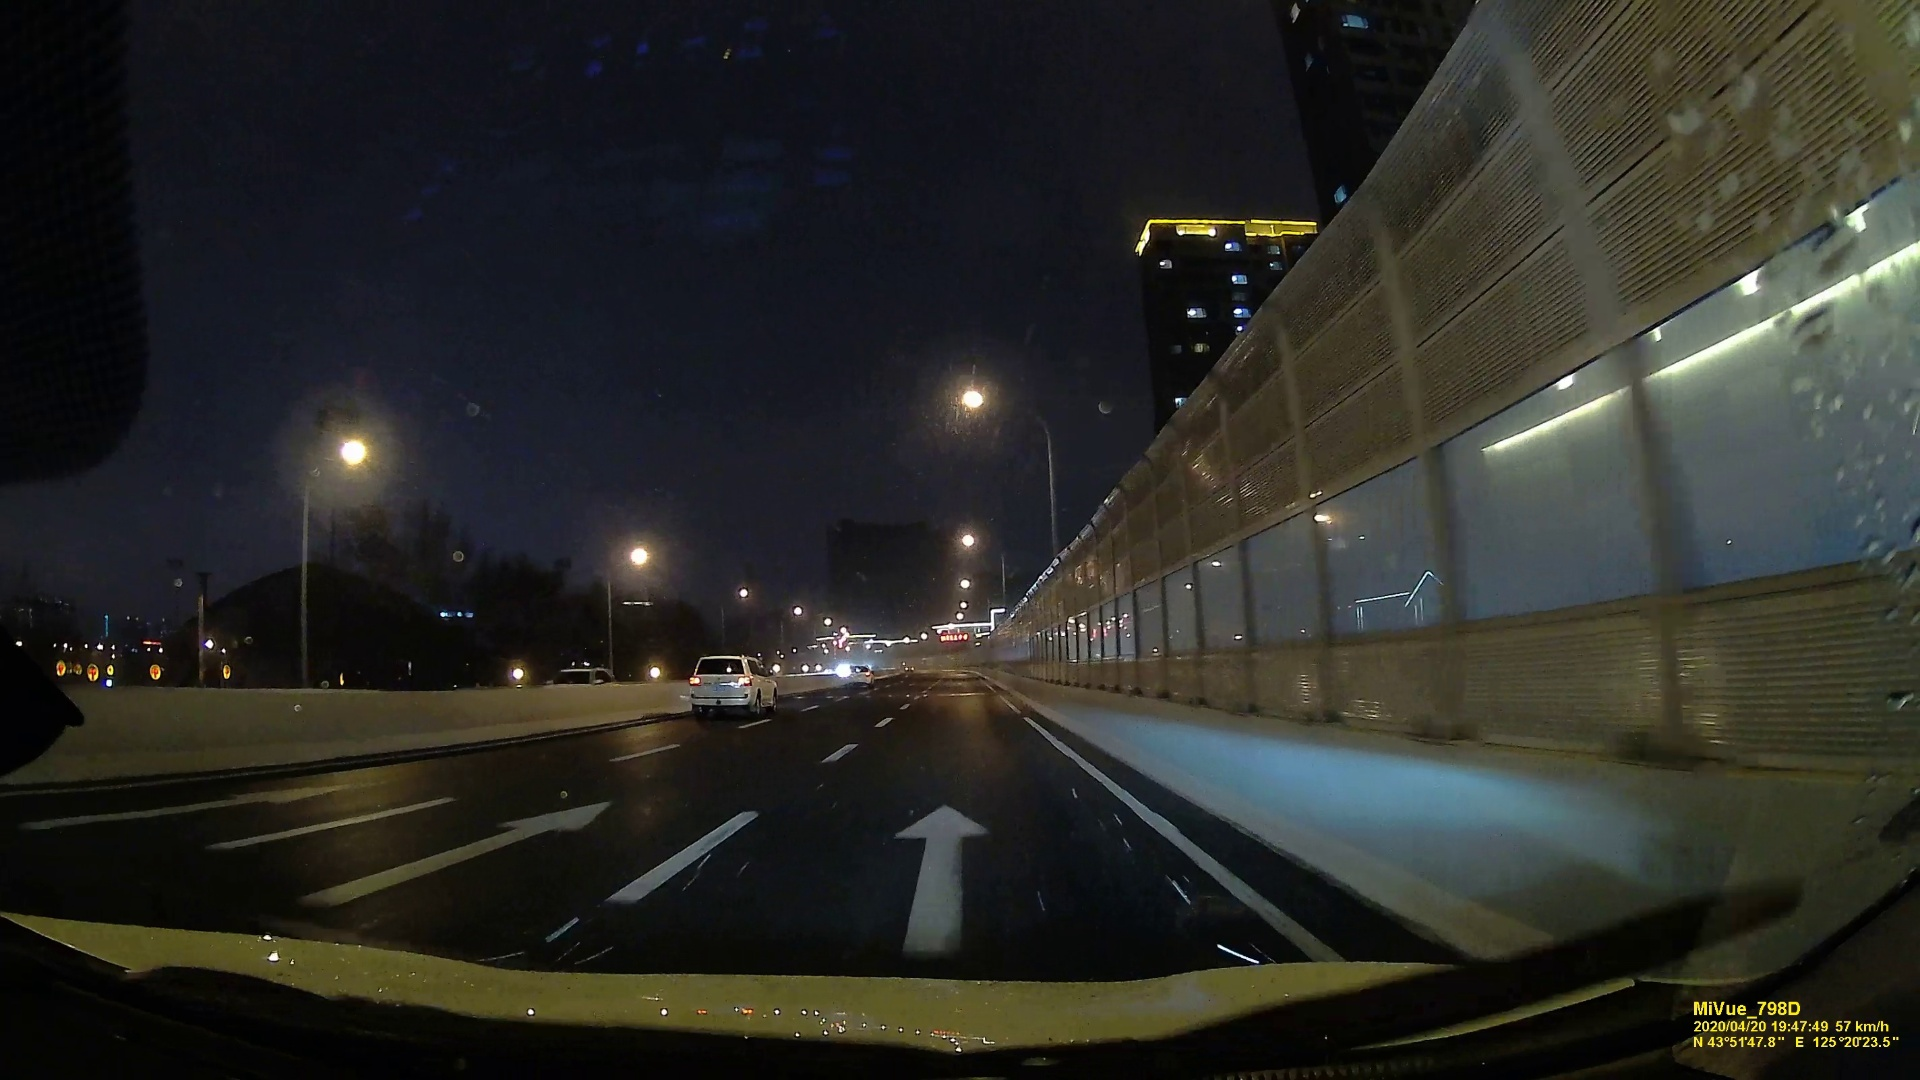vehicle: (684, 653, 779, 717), (847, 665, 876, 687)
